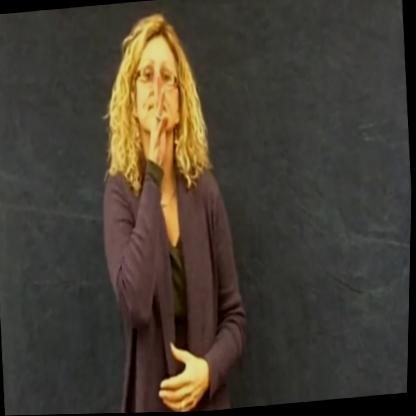Talk: (91, 0, 264, 414)
